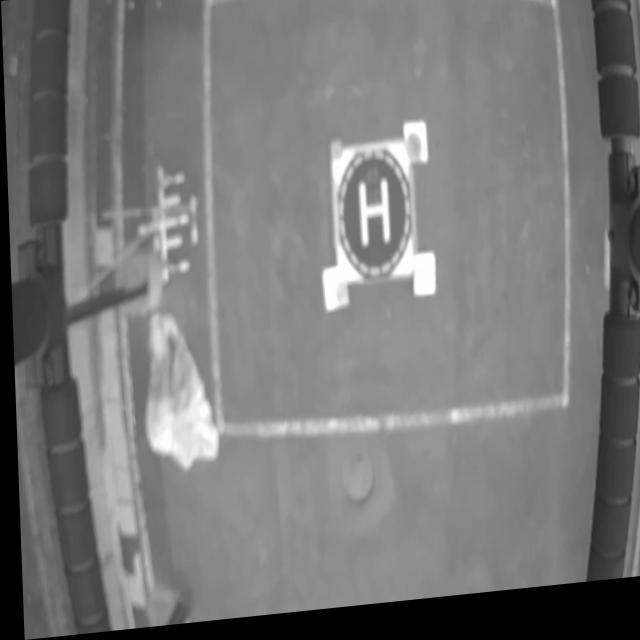Helipad: (356, 183, 387, 256)
